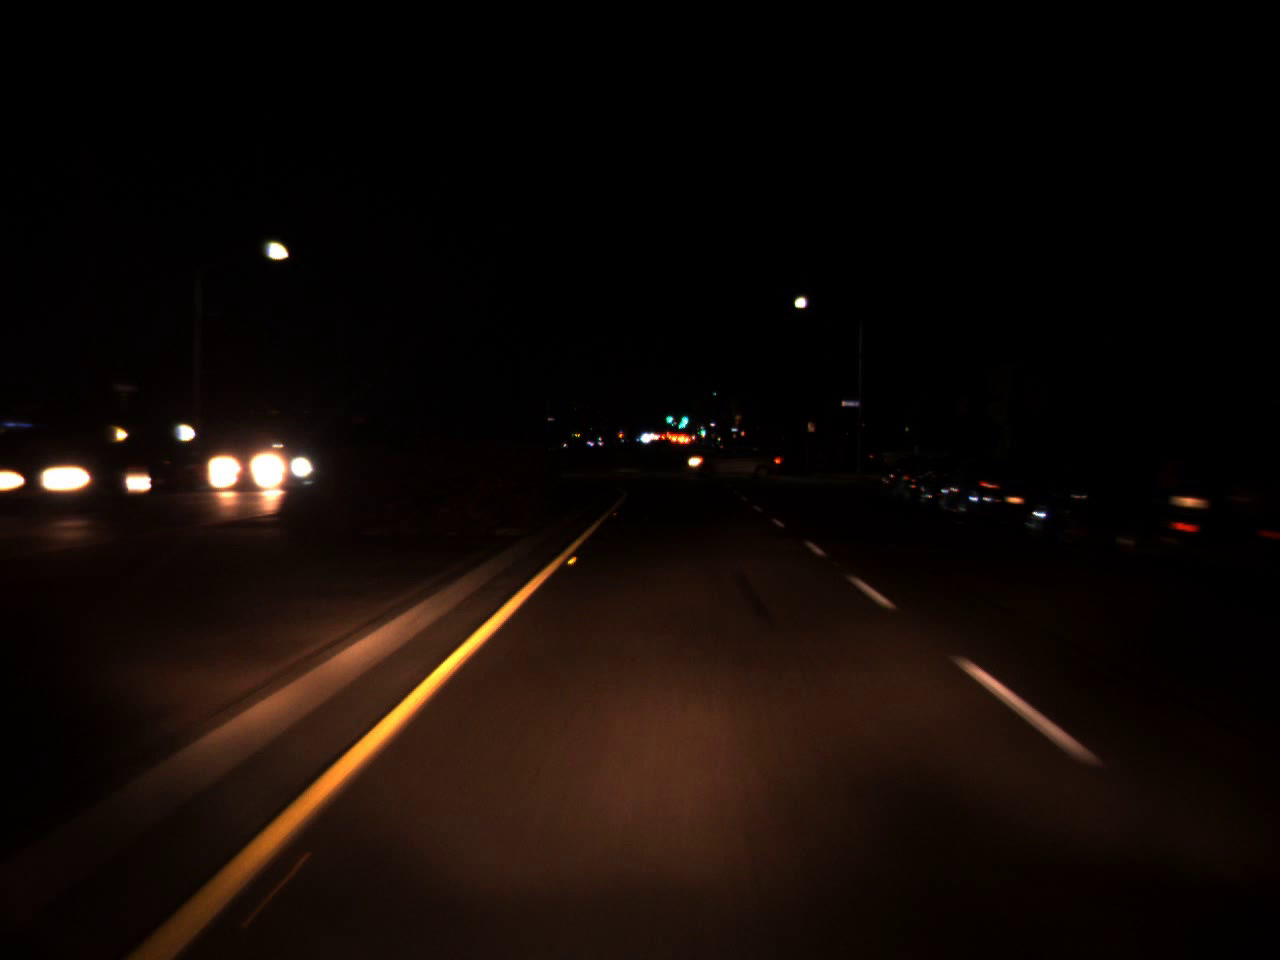go: (676, 400, 690, 433), (664, 408, 673, 426), (699, 424, 706, 436)
